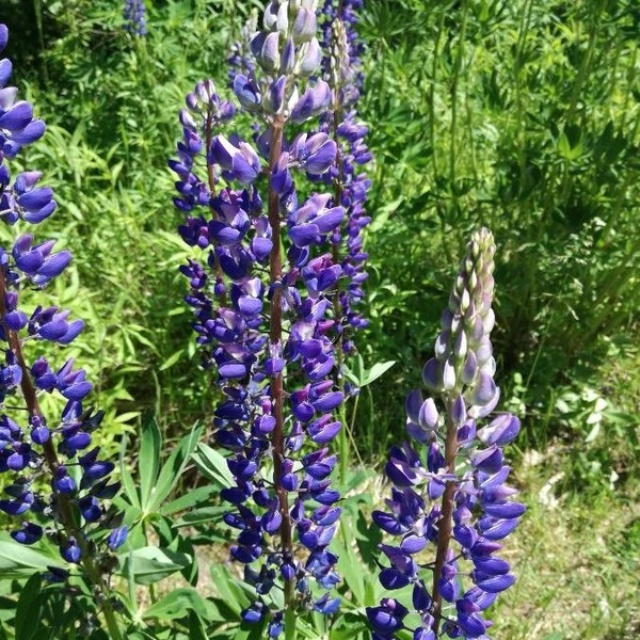obstacle: (173, 29, 383, 599), (431, 39, 606, 393), (43, 23, 170, 399), (426, 219, 518, 623)
